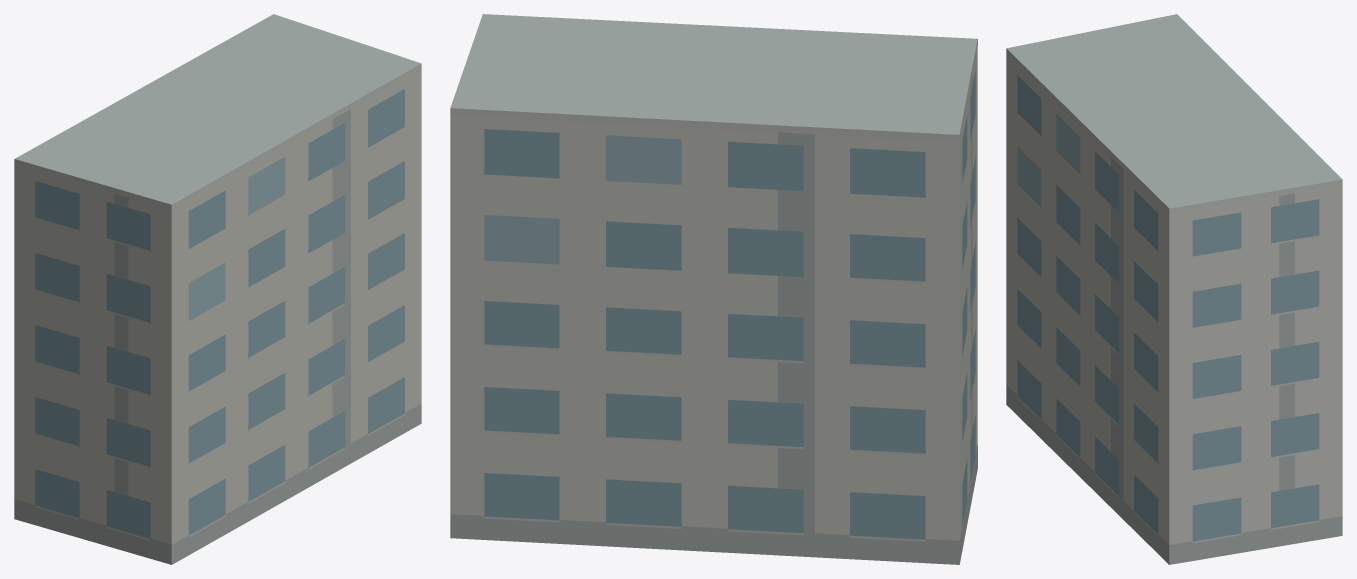
File: survey-upis-32842206.glb
3 views of the same model, side by side, from view 1: azimuth 30°, elevation 25°; view 2: azimuth 150°, elevation 25°; view 3: azimuth 270°, elevation 25° (orthographic). The views are drawn at different scales.
Parts seen in each view (by area): view 1: survey-upis-32842206.tmp; view 2: survey-upis-32842206.tmp; view 3: survey-upis-32842206.tmp.
Boxes of the visible parts, left/top/right/bottom form: survey-upis-32842206.tmp: left=14, top=14, right=421, bottom=564; survey-upis-32842206.tmp: left=450, top=14, right=977, bottom=564; survey-upis-32842206.tmp: left=1006, top=14, right=1342, bottom=564.
Bounding box in the file's own units: 17.87 × 15.25 × 13.05.
